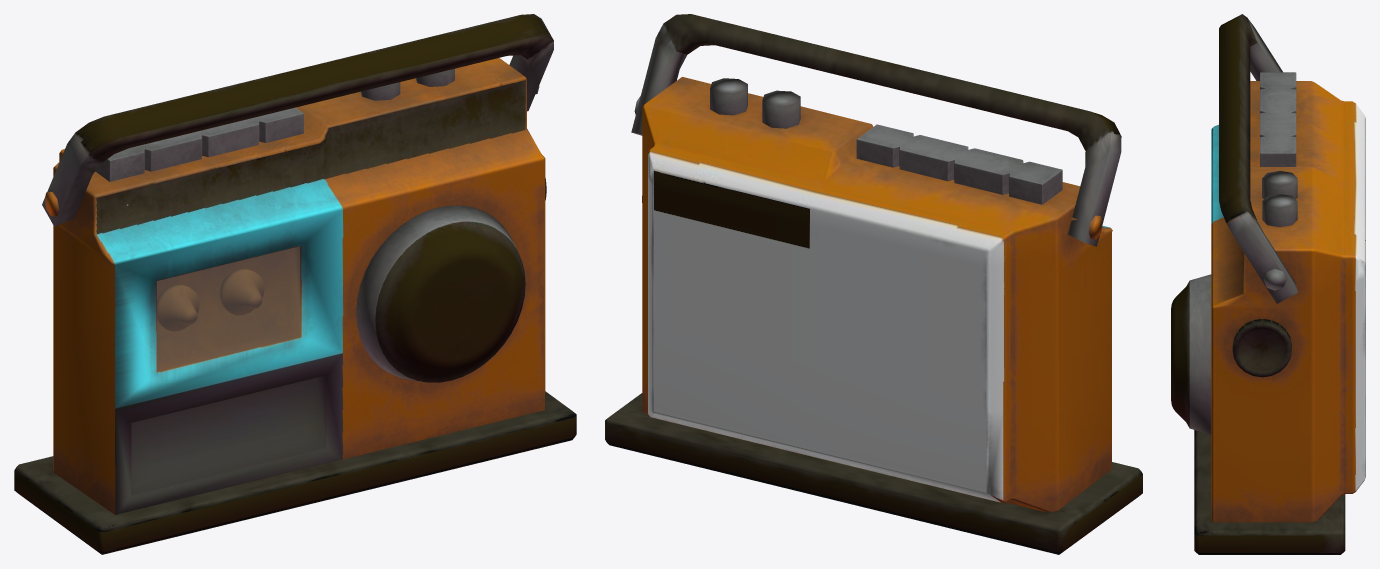
3 views of the same model, side by side, from view 1: azimuth 30°, elevation 25°; view 2: azimuth 150°, elevation 25°; view 3: azimuth 270°, elevation 25° (orthographic). The views are drawn at different scales.
Parts seen in each view (by area): view 1: Object_3, Object_2; view 2: Object_3; view 3: Object_3.
Boxes of the visible parts, <box> form: Object_3: <box>14,14,576,554</box>; Object_2: <box>156,246,300,371</box>; Object_3: <box>605,14,1142,554</box>; Object_3: <box>1171,14,1365,554</box>.
Bounding box in the file's own units: 3.87 × 3.2 × 1.6.
2 materials, 2 textured.
